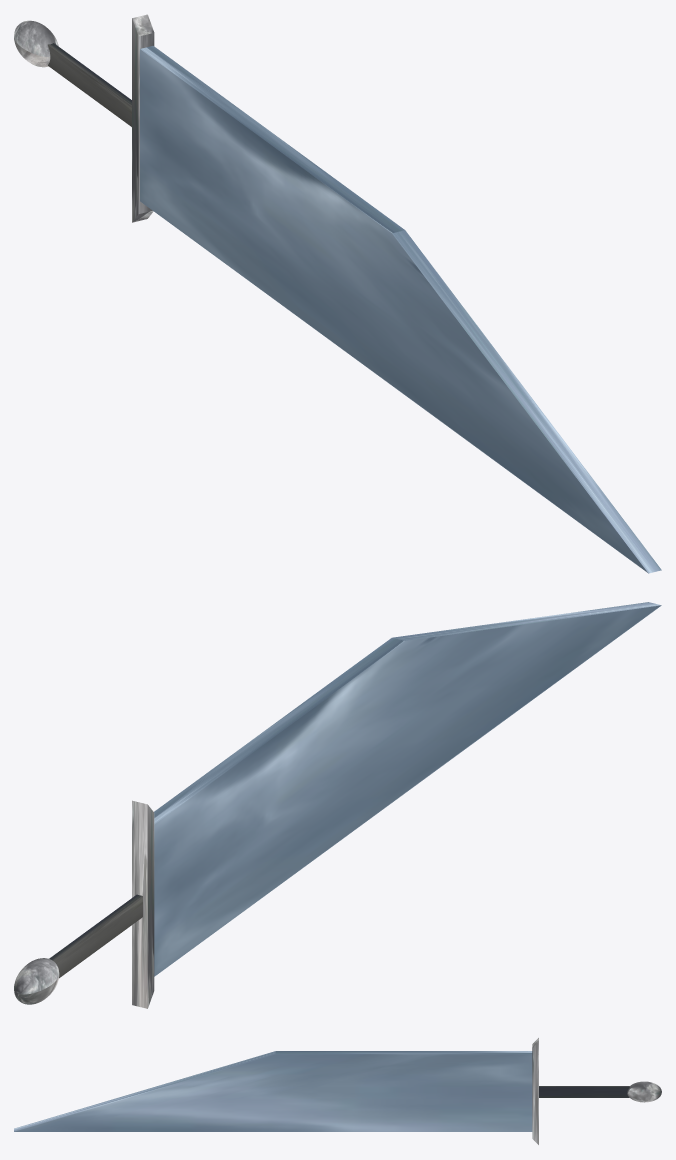
File: mimita-swordsword-v2.glb
3 renders of one model, top to bottom at view 1: azimuth 30°, elevation 25°; view 2: azimuth 150°, elevation 25°; view 3: azimuth 270°, elevation 25°, orthographic. The views are drawn at different scales.
Visible parts, largest first — view 1: Cube.057; view 2: Cube.057; view 3: Cube.057.
Boxes of the visible parts, x1,y1,x2,y2 form: Cube.057: [14, 14, 661, 573]; Cube.057: [14, 602, 661, 1008]; Cube.057: [14, 1038, 661, 1144].
Bounding box in the file's own units: 0.1758 × 1.17 × 6.57.
3 materials, 3 textured.
